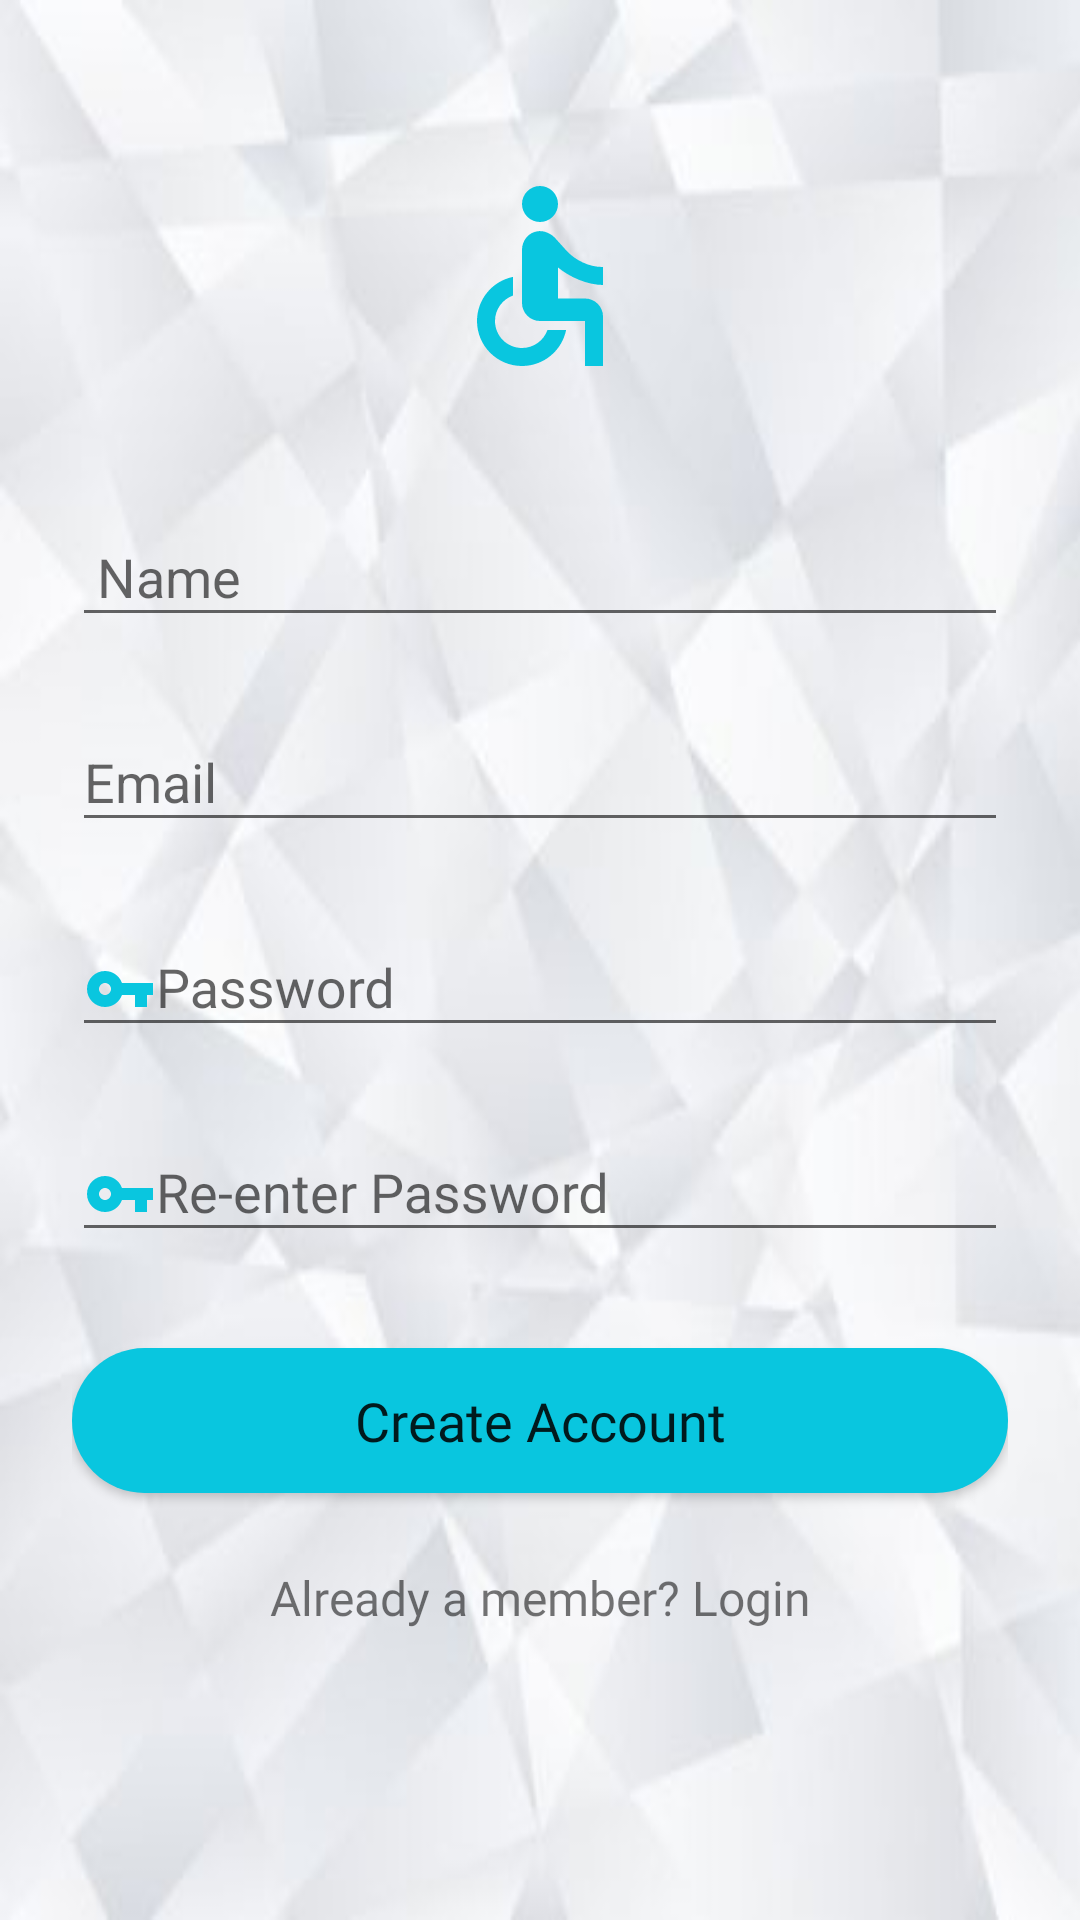

Named icons in this screenshot (1080px x 1920px) and their bounding boxes, (x1,y1,x2,y2):
accessible: (477,186,603,366)
